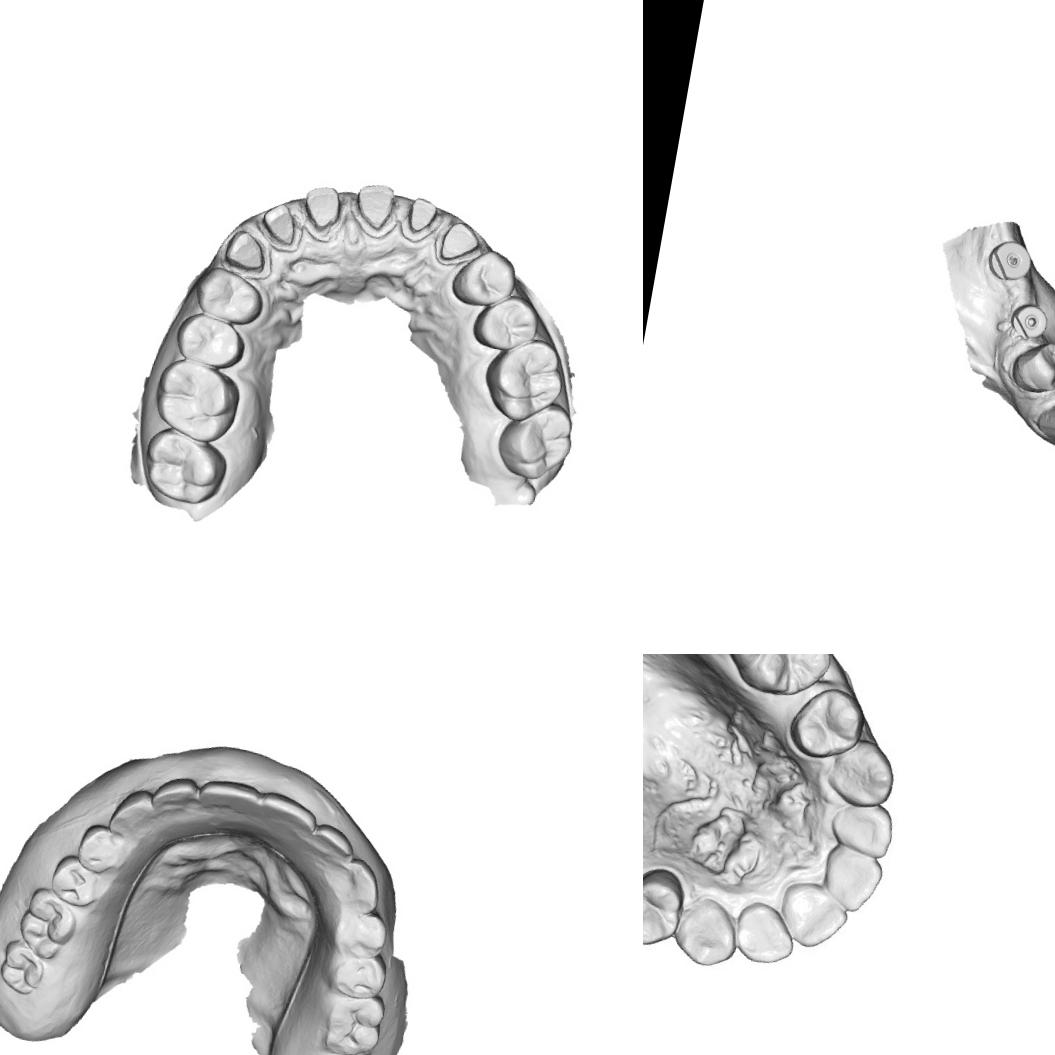canine: (670, 891, 738, 969), (826, 740, 898, 807), (103, 782, 163, 841), (332, 852, 386, 911), (1033, 391, 1055, 448)
crown: (215, 220, 280, 283), (294, 178, 353, 244), (344, 177, 403, 241), (250, 197, 309, 255), (428, 214, 485, 270), (395, 192, 446, 247)
implant: (983, 235, 1036, 286), (1005, 299, 1050, 342)
incisor: (727, 898, 802, 970), (774, 879, 850, 947), (823, 795, 898, 860), (819, 843, 886, 912), (195, 771, 265, 822), (253, 786, 320, 837), (148, 768, 203, 822), (308, 820, 358, 861)
molar: (146, 354, 246, 447), (478, 331, 570, 428), (136, 421, 234, 510), (490, 393, 579, 486), (13, 882, 83, 964), (316, 983, 389, 1055), (726, 654, 831, 702), (0, 935, 50, 998), (305, 1043, 372, 1055)
premolar: (784, 679, 870, 767), (466, 289, 544, 358), (188, 262, 268, 328), (448, 243, 522, 312), (169, 309, 250, 372), (643, 860, 688, 950), (328, 944, 392, 1004), (45, 849, 105, 910), (70, 819, 132, 878), (1006, 334, 1055, 399), (343, 906, 391, 956)
